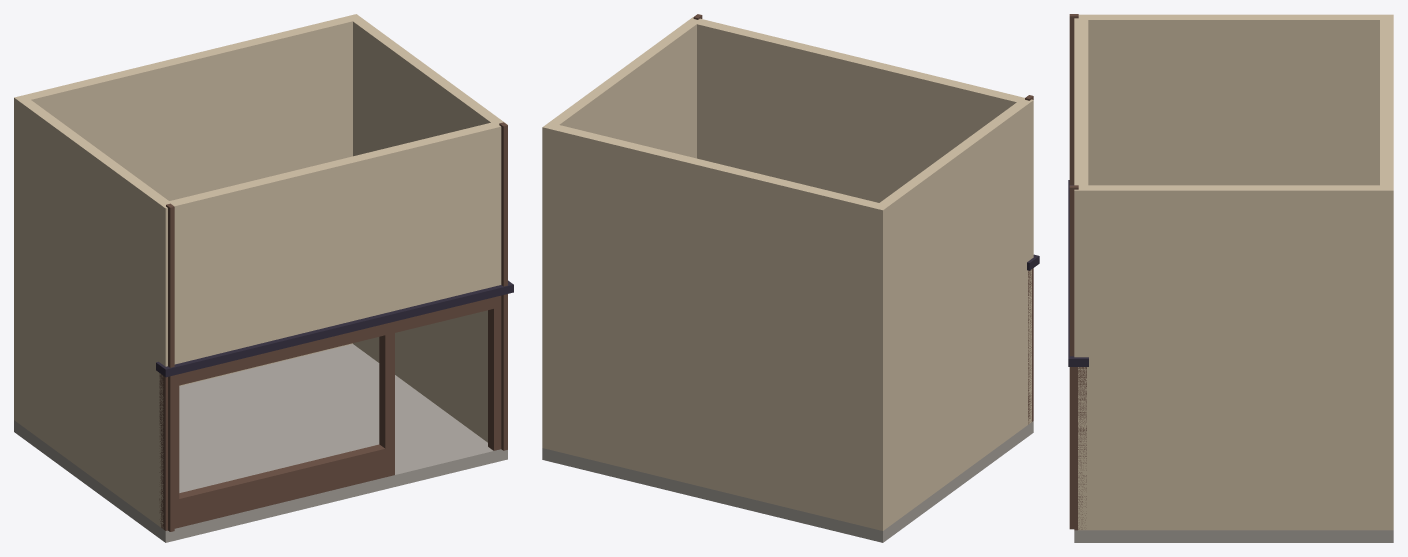
Rendered from SM_Ramen_Shell.fbx.
The picture shows the model from 3 angles, left to right: view 1: azimuth 30°, elevation 25°; view 2: azimuth 150°, elevation 25°; view 3: azimuth 270°, elevation 25°; orthographic projection. The views are drawn at different scales.
Parts seen in each view (by area): view 1: SM_Ramen_Shell; view 2: SM_Ramen_Shell; view 3: SM_Ramen_Shell.
Boxes of the visible parts, x1,y1,x2,y2 form: SM_Ramen_Shell: (14,14,513,542); SM_Ramen_Shell: (542,14,1039,542); SM_Ramen_Shell: (1068,14,1393,542).
Bounding box in the file's own units: 6.1 × 4.69 × 5.63.
